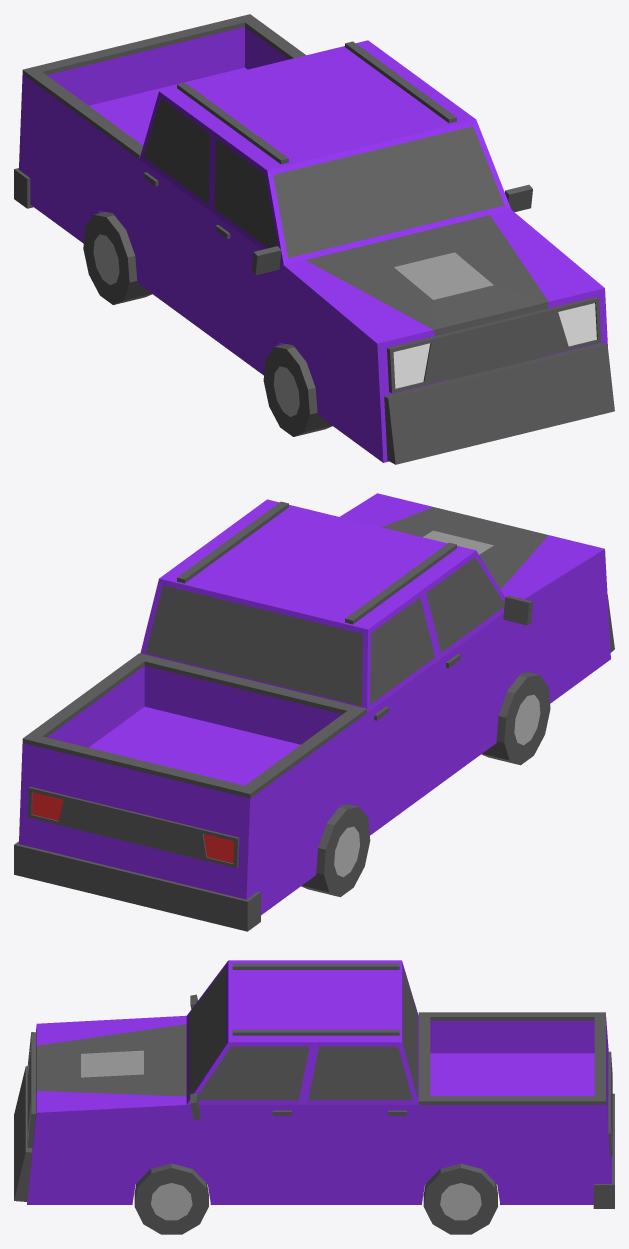
Rendered from SM_Car_03_03.FBX.
3 views of the same model, one above another, from view 1: azimuth 30°, elevation 25°; view 2: azimuth 150°, elevation 25°; view 3: azimuth 270°, elevation 25° (orthographic). The views are drawn at different scales.
Parts seen in each view (by area): view 1: SM_Car_03_03, SM_Wheel_LFront001, SM_Wheel_RBack001; view 2: SM_Car_03_03, SM_Wheel_RBack001, SM_Wheel_LFront001; view 3: SM_Car_03_03, SM_Wheel_LBack001, SM_Wheel_LFront002.
Part boxes in pixels (bbox=[...]): SM_Car_03_03: bbox=[14, 14, 614, 464]; SM_Wheel_LFront001: bbox=[263, 344, 332, 436]; SM_Wheel_RBack001: bbox=[83, 212, 152, 304]; SM_Car_03_03: bbox=[14, 493, 614, 931]; SM_Wheel_RBack001: bbox=[301, 804, 370, 897]; SM_Wheel_LFront001: bbox=[481, 672, 550, 765]; SM_Car_03_03: bbox=[14, 960, 614, 1208]; SM_Wheel_LBack001: bbox=[423, 1163, 497, 1234]; SM_Wheel_LFront002: bbox=[134, 1163, 208, 1234].
Size of the model in its own units: 1.7 by 1.39 by 4.
1 material, 1 textured.
